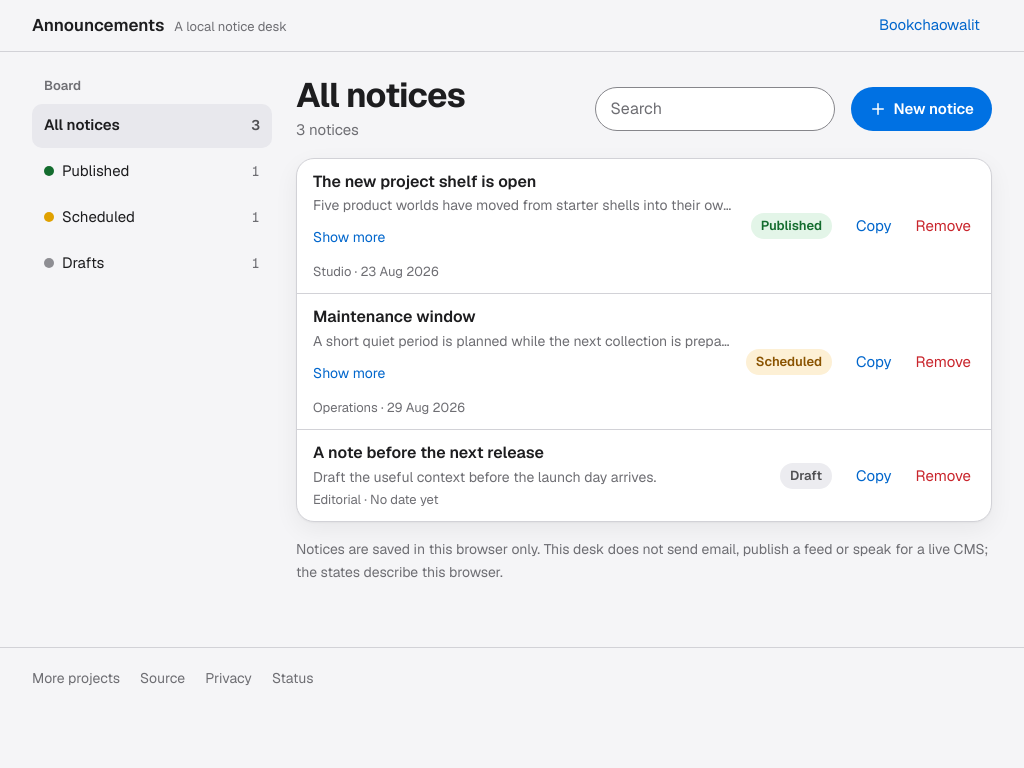
Test: lists, search and copy › Copy writes the notice to the clipboard and says so; a blocked clipboard is reported
Click the 1st button "Copy".
click(874, 226)  # box [844, 204, 904, 248]
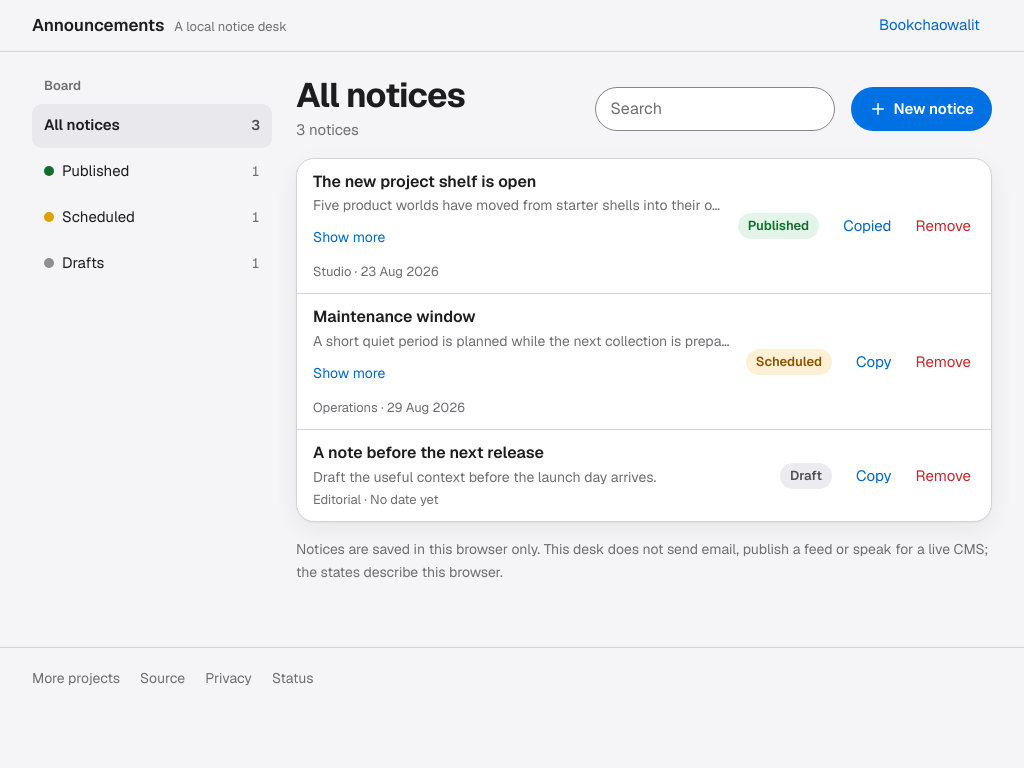
Now the button "Copied" is shown
Click the button "Copied".
click(867, 226)  # box [831, 204, 904, 248]
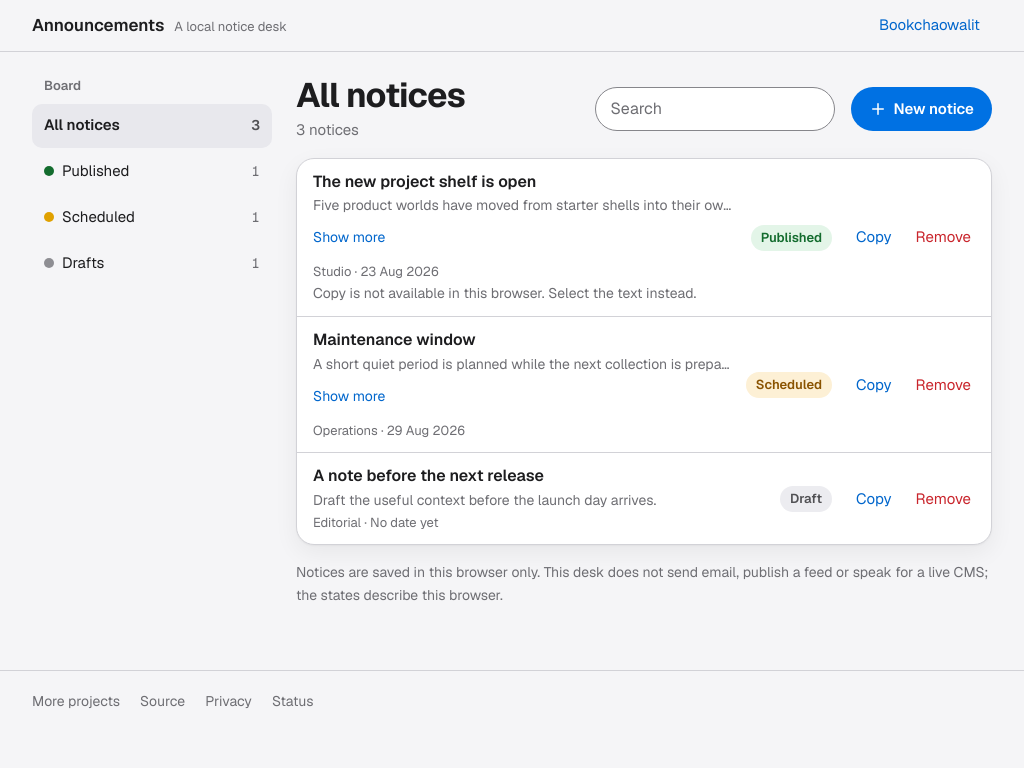
Now the text "Copy is not available" is shown, box [313, 284, 696, 302]
